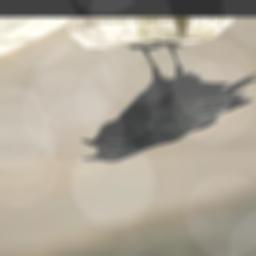Crow: (80, 40, 256, 163)
